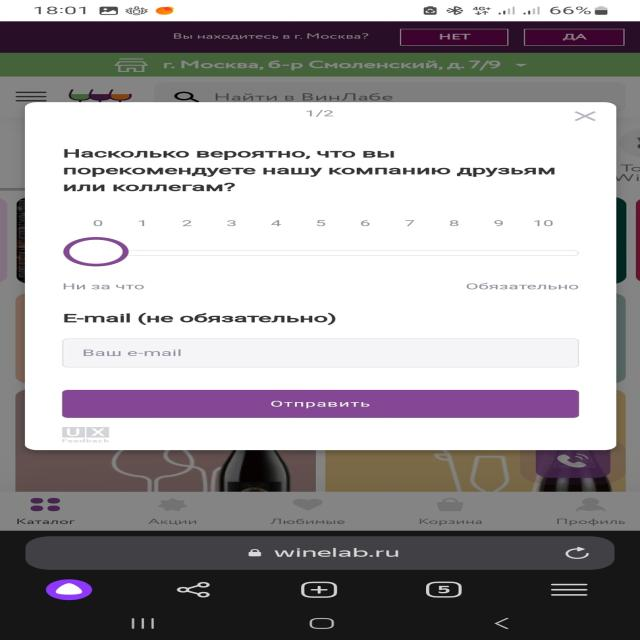button: (61, 389, 580, 420), (529, 28, 625, 46), (404, 30, 505, 46), (571, 110, 601, 122)
site: (26, 103, 617, 451), (2, 23, 634, 51)
